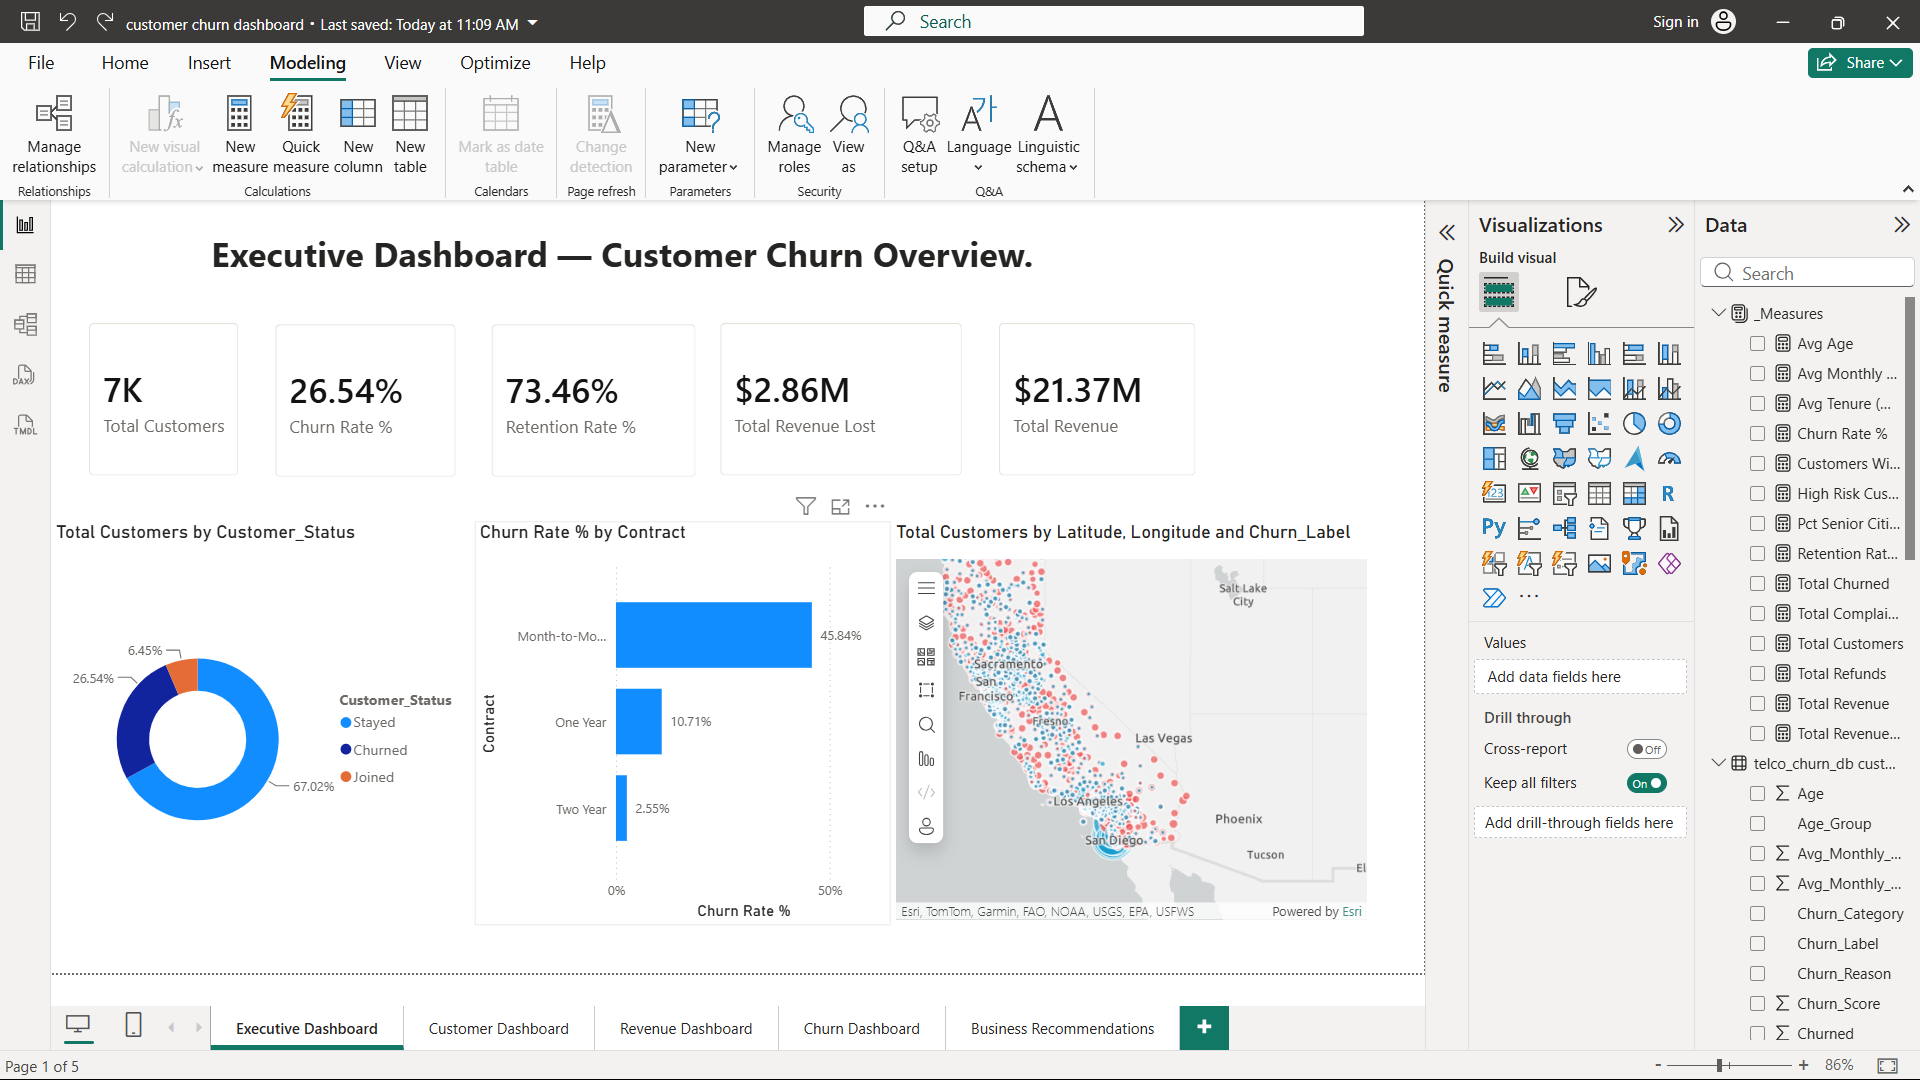

The page's visual inventory and layout, read from the dashboard file:
{"tool":"powerbi","page":{"name":"Executive Dashboard","canvas":[1280,720],"ordinal":0},"visuals":[{"type":"cardVisual","fields":{"Data":["_Measures.Total Customers"]},"box":[18.5,98.4,173.9,176.7],"z":0},{"type":"donutChart","fields":{"Category":["telco_churn_db customer_churn.Customer_Status"],"Y":["_Measures.Total Customers"]},"box":[0,299.3,394.8,376.3],"z":1000},{"type":"clusteredBarChart","fields":{"Category":["telco_churn_db customer_churn.Contract"],"Y":["_Measures.Churn Rate %"]},"box":[394.8,299.3,387.7,376.3],"z":2000},{"type":"cardVisual","fields":{"Data":["_Measures.Churn Rate %"]},"box":[191.9,98.8,202.3,176.7],"z":3000},{"type":"cardVisual","fields":{"Data":["_Measures.Retention Rate %"]},"box":[394.2,98.8,224.4,176.7],"z":4000},{"type":"cardVisual","fields":{"Data":["_Measures.Total Revenue"]},"box":[866.6,98.4,217.4,176.7],"z":5000},{"type":"cardVisual","fields":{"Data":["_Measures.Monthly Recurring Revenue Lost"]},"box":[607.2,98.4,259.4,176.7],"z":6000},{"type":"textbox","box":[144.2,23.3,809.3,84.9],"z":7000},{"type":"esriVisual","fields":{"Latitude":["telco_churn_db customer_churn.Latitude"],"Longitude":["telco_churn_db customer_churn.Longitude"],"Size":["_Measures.Total Customers"],"Color":["telco_churn_db customer_churn.Churn_Label"]},"box":[782.5,299.3,449,376.3],"z":8000}]}

Visuals, with their boxes on the page's 1280x720 design canvas (x1, y1, x2, y2). These are canvas units, not pixel positions in the 1920x1080 screenshot, which may show the page scaled, cropped or inside an application window:
cardVisual - _Measures.Total Customers: x1=18, y1=98, x2=192, y2=275
donutChart - telco_churn_db customer_churn.Customer_Status x _Measures.Total Customers: x1=0, y1=299, x2=395, y2=676
clusteredBarChart - telco_churn_db customer_churn.Contract x _Measures.Churn Rate %: x1=395, y1=299, x2=782, y2=676
cardVisual - _Measures.Churn Rate %: x1=192, y1=99, x2=394, y2=276
cardVisual - _Measures.Retention Rate %: x1=394, y1=99, x2=619, y2=276
cardVisual - _Measures.Total Revenue: x1=867, y1=98, x2=1084, y2=275
cardVisual - _Measures.Monthly Recurring Revenue Lost: x1=607, y1=98, x2=867, y2=275
textbox: x1=144, y1=23, x2=954, y2=108
esriVisual - telco_churn_db customer_churn.Latitude x telco_churn_db customer_churn.Longitude: x1=782, y1=299, x2=1232, y2=676
